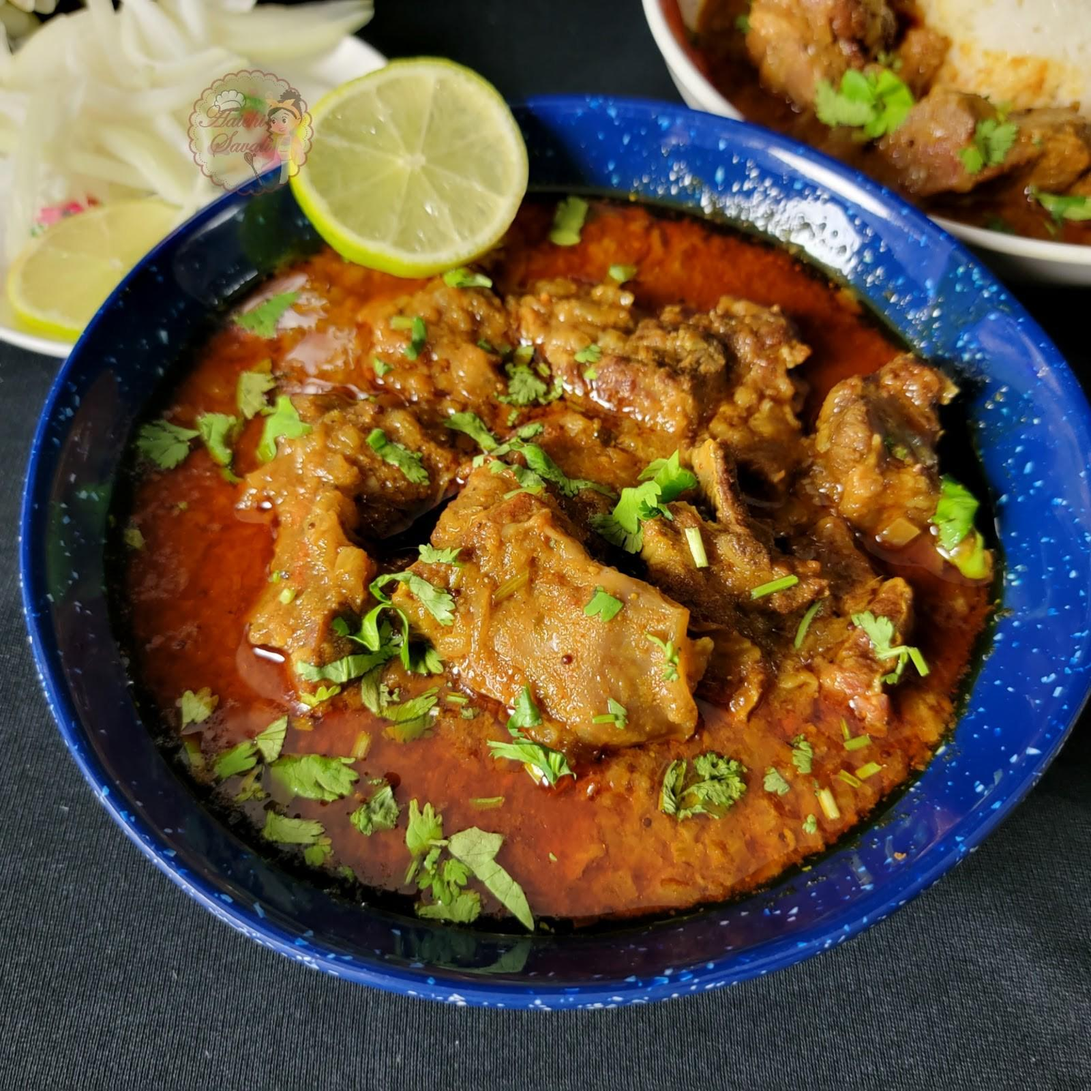MuttonCurry: (119, 193, 985, 921)
